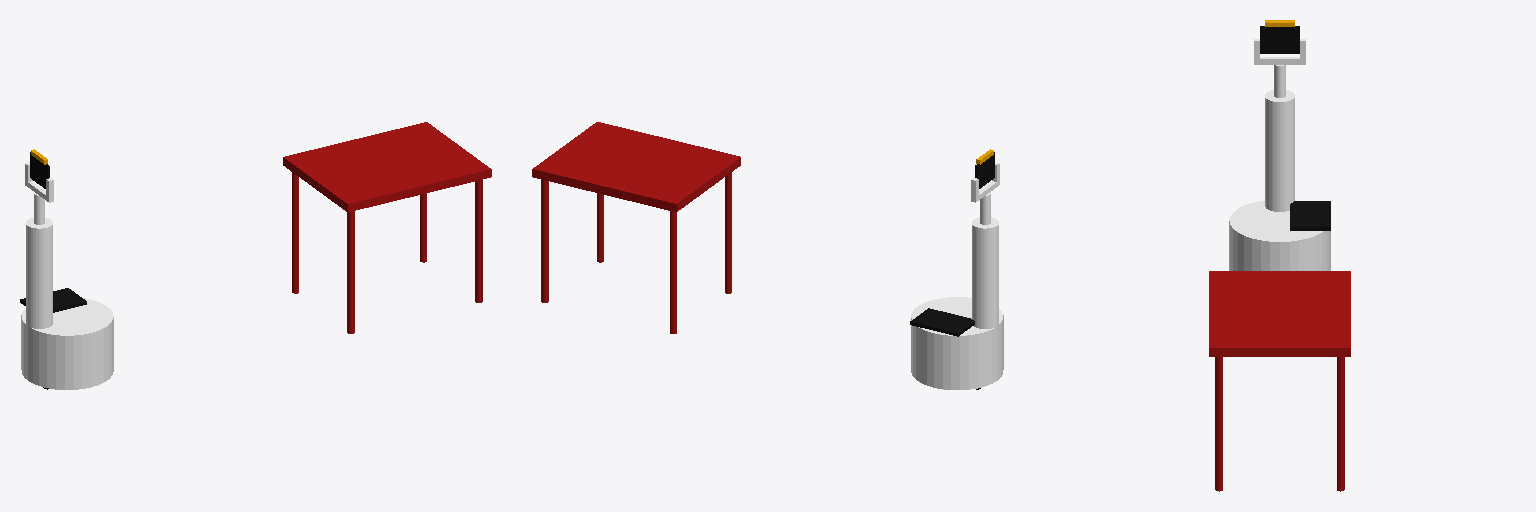
--- Render facts (derived) ---
The picture shows the robot from 3 angles, left to right: view 1: azimuth 30°, elevation 25°; view 2: azimuth 150°, elevation 25°; view 3: azimuth 270°, elevation 25°; orthographic projection.
Robot: korus_jaco — 38 links, 37 joints (13 revolute, 2 continuous, 5 prismatic, 17 fixed); root link world; default pose: joints at zero except 2 at the middle of their limits (jaco_shoulder_pitch_joint = 4.71, jaco_elbow_pitch_joint = 4.71).
Links seen in each view (by area): view 1: table_top_center_link, base_link, torso_link, body_link, table_foot_front_left_link, table_foot_back_left_link, table_foot_back_right_link, tray_link; view 2: table_top_center_link, base_link, torso_link, body_link, tray_link, table_foot_back_right_link, table_foot_back_left_link, table_foot_front_right_bottom_link; view 3: table_top_center_link, torso_link, body_link, base_link, tray_link, tablet_tilt_link, table_foot_front_left_link, table_foot_front_right_bottom_link.
Boxes of the visible links, x1=… form: table_top_center_link: x1=283, y1=122, x2=491, y2=211; base_link: x1=21, y1=324, x2=113, y2=389; torso_link: x1=26, y1=218, x2=52, y2=328; body_link: x1=21, y1=298, x2=113, y2=343; table_foot_front_left_link: x1=475, y1=180, x2=482, y2=302; table_foot_back_left_link: x1=347, y1=211, x2=354, y2=333; table_foot_back_right_link: x1=292, y1=172, x2=298, y2=293; tray_link: x1=20, y1=288, x2=86, y2=312; table_top_center_link: x1=532, y1=122, x2=740, y2=211; base_link: x1=911, y1=324, x2=1003, y2=389; torso_link: x1=972, y1=217, x2=998, y2=328; body_link: x1=911, y1=297, x2=1003, y2=343; tray_link: x1=910, y1=308, x2=974, y2=336; table_foot_back_right_link: x1=670, y1=211, x2=676, y2=333; table_foot_back_left_link: x1=725, y1=172, x2=731, y2=293; table_foot_front_right_bottom_link: x1=541, y1=235, x2=548, y2=302; table_top_center_link: x1=1209, y1=271, x2=1350, y2=356; torso_link: x1=1265, y1=90, x2=1294, y2=211; body_link: x1=1229, y1=200, x2=1329, y2=250; base_link: x1=1229, y1=230, x2=1330, y2=270; tray_link: x1=1290, y1=201, x2=1330, y2=230; tablet_tilt_link: x1=1260, y1=26, x2=1299, y2=53; table_foot_front_left_link: x1=1215, y1=357, x2=1222, y2=491; table_foot_front_right_bottom_link: x1=1337, y1=417, x2=1344, y2=491.
Bounding box of the posed robot: 2.7 × 0.7 × 1.35 m (x, y, z).
Meshes: 8 distinct files referenced, 0 mesh visuals loaded (none loaded); not drawn: 10 (reference not matched to a file when rendering).

The robot description file, URDF, robot "korus_jaco":
<?xml version="1.0" ?>
<!-- =================================================================================== -->
<!-- |    This document was autogenerated by xacro from new_korus_jaco_arm.urdf.xacro  | -->
<!-- |    EDITING THIS FILE BY HAND IS NOT RECOMMENDED                                 | -->
<!-- =================================================================================== -->
<robot name="korus_jaco" xmlns:controller="http://playerstage.sourceforge.net/gazebo/xmlschema/#controller" xmlns:interface="http://playerstage.sourceforge.net/gazebo/xmlschema/#interface" xmlns:sensor="http://playerstage.sourceforge.net/gazebo/xmlschema/#sensor" xmlns:xacro="http://www.ros.org/wiki/xacro">
  <!--   <include filename="$(find korus_meta)/resources/urdf/jaco_arm.xacro"/> -->
  <material name="JacoGrey">
    <color rgba="0.2 0.2 0.9 1.0"/>
  </material>
  <!-- ************************ omni drive simulation ************************* -->
  <link name="world">
  </link>
  <joint name="omni_drive_x" type="prismatic">
    <parent link="world"/>
    <child link="omni_drive_x_link"/>
    <origin rpy="0 0 0" xyz="-1.0 0 0"/>
    <axis xyz="1 0 0"/>
    <limit effort="10" lower="0.0" upper="2.0" velocity="1.0"/>
  </joint>
  <link name="omni_drive_x_link">
  </link>
  <joint name="omni_drive_y" type="prismatic">
    <parent link="omni_drive_x_link"/>
    <child link="base_footprint"/>
    <origin rpy="0 0 0" xyz="0.0 0 0"/>
    <axis xyz="0 1 0"/>
    <limit effort="10" lower="-1.0" upper="1.0" velocity="1.0"/>
  </joint>
  <!-- ************************ Robot model ************************* -->
  <link name="base_footprint"/>
  <joint name="base_joint" type="fixed">
    <parent link="base_footprint"/>
    <child link="base_link"/>
    <origin rpy="0 0 0" xyz="0.0 0.0 0.075"/>
  </joint>
  <link name="base_link">
    <visual>
      <origin rpy="0 0 0" xyz="0.0 0 0.0875"/>
      <geometry>
        <cylinder length="0.275" radius="0.250"/>
      </geometry>
      <material name="white">
        <color rgba="1 1 1 1"/>
      </material>
    </visual>
    <collision>
      <origin rpy="0 0 0" xyz="0.0 0 0.0875"/>
      <geometry>
        <cylinder length="0.275" radius="0.250"/>
      </geometry>
      <material name="white">
        <color rgba="1 1 1 1"/>
      </material>
    </collision>
  </link>
  <link name="wheel_left">
    <visual>
      <geometry>
        <cylinder length="0.03" radius="0.075"/>
      </geometry>
      <origin rpy="0 1.57079632679 0" xyz="0 0 0"/>
      <material name="black">
        <color rgba="0.1 0.1 0.1 1"/>
      </material>
    </visual>
  </link>
  <joint name="wheel_left" type="continuous">
    <parent link="base_link"/>
    <child link="wheel_left"/>
    <origin rpy="0 0 1.57079632679" xyz="0.0 0.15 0.0"/>
  </joint>
  <link name="wheel_right">
    <visual>
      <geometry>
        <cylinder length="0.03" radius="0.075"/>
      </geometry>
      <origin rpy="0 1.57079632679 0" xyz="0 0 0"/>
      <material name="black">
        <color rgba="0.1 0.1 0.1 1"/>
      </material>
    </visual>
  </link>
  <joint name="wheel_right" type="continuous">
    <parent link="base_link"/>
    <child link="wheel_right"/>
    <origin rpy="0 0 1.57079632679" xyz="0.0 -0.15 0.0"/>
  </joint>
  <link name="caster_front_left">
    <visual>
      <geometry>
        <cylinder length="0.02" radius="0.04"/>
      </geometry>
      <origin rpy="0 1.57079632679 0" xyz="0 0 0"/>
      <material name="black">
        <color rgba="0.1 0.1 0.1 1"/>
      </material>
    </visual>
  </link>
  <joint name="caster_front_left" type="fixed">
    <parent link="base_link"/>
    <child link="caster_front_left"/>
    <origin rpy="0 0 1.57079632679" xyz="0.18 0.1 -0.035"/>
  </joint>
  <link name="caster_front_right">
    <visual>
      <geometry>
        <cylinder length="0.02" radius="0.04"/>
      </geometry>
      <origin rpy="0 1.57079632679 0" xyz="0 0 0"/>
      <material name="black">
        <color rgba="0.1 0.1 0.1 1"/>
      </material>
    </visual>
  </link>
  <joint name="caster_front_right" type="fixed">
    <parent link="base_link"/>
    <child link="caster_front_right"/>
    <origin rpy="0 0 1.57079632679" xyz="0.18 -0.1 -0.035"/>
  </joint>
  <link name="caster_back_left">
    <visual>
      <geometry>
        <cylinder length="0.02" radius="0.04"/>
      </geometry>
      <origin rpy="0 1.57079632679 0" xyz="0 0 0"/>
      <material name="black">
        <color rgba="0.1 0.1 0.1 1"/>
      </material>
    </visual>
  </link>
  <joint name="caster_back_left" type="fixed">
    <parent link="base_link"/>
    <child link="caster_back_left"/>
    <origin rpy="0 0 1.57079632679" xyz="-0.18 0.1 -0.035"/>
  </joint>
  <link name="caster_back_right">
    <visual>
      <geometry>
        <cylinder length="0.02" radius="0.04"/>
      </geometry>
      <origin rpy="0 1.57079632679 0" xyz="0 0 0"/>
      <material name="black">
        <color rgba="0.1 0.1 0.1 1"/>
      </material>
    </visual>
  </link>
  <joint name="caster_back_right" type="fixed">
    <parent link="base_link"/>
    <child link="caster_back_right"/>
    <origin rpy="0 0 1.57079632679" xyz="-0.18 -0.1 -0.035"/>
  </joint>
  <joint name="body" type="revolute">
    <parent link="base_link"/>
    <child link="body_link"/>
    <origin rpy="0 0 0" xyz="0.0 0.0 0.250"/>
    <axis xyz="0 0 1"/>
    <limit effort="10" lower="-3.14159265359" upper="3.14159265359" velocity="0.013"/>
  </joint>
  <link name="body_link">
    <visual>
      <origin rpy="0 0 0" xyz="0.0 0.0 0.0"/>
      <geometry>
        <cylinder length="0.05" radius="0.25"/>
      </geometry>
      <material name="white">
        <color rgba="1 1 1 1"/>
      </material>
    </visual>
    <collision>
      <origin rpy="0 0 0" xyz="0.0 0.0 0.0"/>
      <geometry>
        <cylinder length="0.05" radius="0.25"/>
      </geometry>
      <material name="white">
        <color rgba="1 1 1 1"/>
      </material>
    </collision>
  </link>
  <joint name="tray_joint" type="revolute">
    <parent link="base_link"/>
    <child link="tray_link"/>
    <origin rpy="0 0 0" xyz="0.0 0.0 0.250"/>
    <axis xyz="0 0 1"/>
    <limit effort="10" lower="-3.14159265359" upper="3.14159265359" velocity="0.013"/>
  </joint>
  <link name="tray_link">
    <visual>
      <geometry>
        <box size="0.30 0.20 0.02"/>
      </geometry>
      <origin rpy="0 0.0 0" xyz="0.0 0.15 0.05"/>
      <material name="black">
        <color rgba="0.1 0.1 0.1 1"/>
      </material>
    </visual>
    <collision>
      <geometry>
        <box size="0.30 0.20 0.02"/>
      </geometry>
      <origin rpy="0 0.0 0" xyz="0.0 0.15 0.05"/>
      <material name="black">
        <color rgba="0.1 0.1 0.1 1"/>
      </material>
    </collision>
  </link>
  <joint name="torso_joint" type="fixed">
    <parent link="body_link"/>
    <child link="torso_link"/>
    <origin rpy="0 0 0" xyz="-0.175 0.0 0.025"/>
  </joint>
  <link name="torso_link">
    <visual>
      <geometry>
        <cylinder length="0.60" radius="0.075"/>
      </geometry>
      <origin rpy="0 0 0" xyz="0 0 0.30"/>
      <material name="white">
        <color rgba="1 1 1 1"/>
      </material>
    </visual>
    <collision>
      <geometry>
        <cylinder length="0.60" radius="0.075"/>
      </geometry>
      <origin rpy="0 0 0" xyz="0 0 0.30"/>
    </collision>
  </link>
  <joint name="torso_lift_offset" type="fixed">
    <parent link="torso_link"/>
    <child link="torso_lift_offset_link"/>
    <origin rpy="0 0 0" xyz="0 0 0.25"/>
    <axis xyz="0 0 1"/>
  </joint>
  <link name="torso_lift_offset_link"/>
  <joint name="torso_lift" type="prismatic">
    <parent link="torso_lift_offset_link"/>
    <child link="torso_lift_link"/>
    <origin rpy="0 0 3.14159265359" xyz="0 0 0"/>
    <axis xyz="0 0 1"/>
    <limit effort="10" lower="-0.10" upper="0.22" velocity="0.5"/>
  </joint>
  <link name="torso_lift_link">
    <!--     <visual> -->
    <!--       <geometry> -->
    <!--         <box size="0.10 0.25 0.13"/> -->
    <!--       </geometry> -->
    <!--       <origin xyz="-0.05 0.0 0.0" rpy="0 0 0"/> -->
    <!--       <xacro:insert_block name="material_grey_blue" /> -->
    <!--     </visual> -->
  </link>
  <joint name="head_joint" type="fixed">
    <parent link="torso_lift_link"/>
    <child link="head_link"/>
    <origin rpy="0 0 3.14159265359" xyz="0.0 0.0 0.125"/>
  </joint>
  <link name="head_link">
    <visual>
      <geometry>
        <cylinder length="0.40" radius="0.03"/>
      </geometry>
      <origin rpy="0 0 0" xyz="0.0 0.0 0.2"/>
      <material name="white">
        <color rgba="1 1 1 1"/>
      </material>
    </visual>
  </link>
  <joint name="tablet_pan_joint" type="revolute">
    <parent link="head_link"/>
    <child link="tablet_pan_link"/>
    <origin rpy="0 0 0" xyz="0.0 0.0 0.40"/>
    <axis xyz="0 0 1"/>
    <limit effort="10" lower="-1.57079632679" upper="1.57079632679" velocity="0.013"/>
  </joint>
  <link name="tablet_pan_link">
    <visual>
      <geometry>
        <box size="0.03 0.26 0.03"/>
      </geometry>
      <origin rpy="0.0 0.0 0.0" xyz="0.0 0.0 0.015"/>
      <material name="white">
        <color rgba="1 1 1 1"/>
      </material>
    </visual>
  </link>
  <joint name="tablet_tilt_mount_left_joint" type="fixed">
    <parent link="tablet_pan_link"/>
    <child link="tablet_tilt_mount_left_link"/>
    <origin rpy="0 0 0" xyz="0 0.115 0"/>
  </joint>
  <link name="tablet_tilt_mount_left_link">
    <visual>
      <geometry>
        <box size="0.03 0.03 0.10"/>
      </geometry>
      <origin rpy="0.0 0.0 0.0" xyz="0.0 0.0 0.08"/>
      <material name="white">
        <color rgba="1 1 1 1"/>
      </material>
    </visual>
  </link>
  <joint name="tablet_tilt_mount_right_joint" type="fixed">
    <parent link="tablet_pan_link"/>
    <child link="tablet_tilt_mount_right_link"/>
    <origin rpy="0 0 0" xyz="0 -0.115 0"/>
  </joint>
  <link name="tablet_tilt_mount_right_link">
    <visual>
      <geometry>
        <box size="0.03 0.03 0.10 "/>
      </geometry>
      <origin rpy="0.0 0.0 0.0" xyz="0.0 0.0 0.08"/>
      <material name="white">
        <color rgba="1 1 1 1"/>
      </material>
    </visual>
  </link>
  <joint name="tablet_tilt_joint" type="revolute">
    <parent link="tablet_pan_link"/>
    <child link="tablet_tilt_link"/>
    <origin rpy="1.57079632679 0 0" xyz="0 0 0.13"/>
    <axis xyz="0 0 1"/>
    <limit effort="10" lower="-1.57079632679" upper="1.57079632679" velocity="0.013"/>
  </joint>
  <link name="tablet_tilt_link">
    <visual>
      <geometry>
        <box size="0.01 0.20 0.15"/>
      </geometry>
      <origin rpy="-1.57079632679 0.0 0.0" xyz="0.0 0.0 0.0"/>
      <material name="black">
        <color rgba="0.1 0.1 0.1 1"/>
      </material>
    </visual>
  </link>
  <joint name="asus_tilt_joint" type="fixed">
    <parent link="tablet_tilt_link"/>
    <child link="asus_link"/>
    <origin rpy="0 0 0" xyz="0.0 0.0875 0.0"/>
  </joint>
  <link name="asus_link">
    <visual>
      <geometry>
        <box size="0.025 0.025 0.15"/>
      </geometry>
      <origin rpy="0 0 0" xyz="0.0 0.0 0.0"/>
      <material name="orange">
        <color rgba="1.0 0.7 0.0 1"/>
      </material>
    </visual>
  </link>
  <!-- ************************ Arm model ************************* -->
  <!-- 	<xacro:jaco_arm parent="torso_lift_link"> -->
  <!-- 	</xacro:jaco_arm> -->
  <joint name="jaco_base_joint" type="fixed">
    <origin rpy="-1.57079632679 0 1.57079632679" xyz="-0.14 0 0"/>
    <parent link="torso_lift_link"/>
    <child link="jaco_base_link"/>
  </joint>
  <link name="jaco_base_link">
    <visual>
      <material name="JacoGrey"/>
      <origin rpy="0 0 1.57079632679" xyz="0 0 0"/>
      <geometry>
        <mesh filename="package://jaco_description/meshes/jaco_base_joint.stl"/>
      </geometry>
    </visual>
    <collision>
      <origin rpy="0 0 1.57079632679" xyz="0 0 0"/>
      <geometry>
        <mesh filename="package://jaco_description/meshes/jaco_base_joint.stl"/>
      </geometry>
    </collision>
  </link>
  <joint name="jaco_shoulder_yaw_joint" type="revolute">
    <origin rpy="0 0 0" xyz="0 0 0.2102"/>
    <axis rpy="0 0 0" xyz="0 0 1"/>
    <parent link="jaco_base_link"/>
    <child link="jaco_shoulder_link"/>
    <!--         <limit lower="${-M_PI}" upper="${M_PI}" effort="1" velocity="${M_PI}"/> -->
    <limit effort="10" lower="-9.42477796077" upper="9.42477796077" velocity="0.84"/>
  </joint>
  <link name="jaco_shoulder_link">
    <visual>
      <material name="JacoGrey"/>
      <origin rpy="1.57079632679 -1.57079632679 0" xyz="0 0 0"/>
      <geometry>
        <mesh filename="package://jaco_description/meshes/jaco_shoulder_yaw_joint.stl"/>
      </geometry>
    </visual>
    <collision>
      <origin rpy="1.57079632679 -1.57079632679 0" xyz="0 0 0"/>
      <geometry>
        <mesh filename="package://jaco_description/meshes/jaco_shoulder_yaw_joint.stl"/>
      </geometry>
    </collision>
  </link>
  <joint name="jaco_shoulder_pitch_joint" type="revolute">
    <origin rpy="-1.57079632679 0 0" xyz="0 0 0"/>
    <axis xyz="0 0 1"/>
    <parent link="jaco_shoulder_link"/>
    <child link="jaco_upper_arm_link"/>
    <!--         <limit lower="${-M_PI}" upper="${M_PI}" effort="1" velocity="${M_PI}"/> -->
    <limit effort="10" lower="2.30" upper="7.12" velocity="0.84"/>
  </joint>
  <link name="jaco_upper_arm_link">
    <visual>
      <material name="JacoGrey"/>
      <origin rpy="0 0 -1.57079632679" xyz="0 0 0"/>
      <geometry>
        <mesh filename="package://jaco_description/meshes/jaco_shoulder_pitch_joint.stl"/>
      </geometry>
    </visual>
    <collision>
      <origin rpy="0 0 -1.57079632679" xyz="0 0 0"/>
      <geometry>
        <mesh filename="package://jaco_description/meshes/jaco_shoulder_pitch_joint.stl"/>
      </geometry>
    </collision>
  </link>
  <joint name="jaco_elbow_pitch_joint" type="revolute">
    <origin rpy="0 0 0" xyz="0.41 0 0.012"/>
    <axis xyz="0 0 1"/>
    <parent link="jaco_upper_arm_link"/>
    <child link="jaco_lower_arm_link"/>
    <!--         <limit lower="${-M_PI}" upper="${M_PI}" effort="1" velocity="${M_PI}"/> -->
    <limit effort="10" lower="1.87079632679" upper="7.55398163397" velocity="0.84"/>
  </joint>
  <link name="jaco_lower_arm_link">
    <visual>
      <material name="JacoGrey"/>
      <origin rpy="3.14159265359 0 3.14159265359" xyz="0 0 -0.012"/>
      <geometry>
        <mesh filename="package://jaco_description/meshes/jaco_elbow_pitch_joint.stl"/>
      </geometry>
    </visual>
    <collision>
      <origin rpy="3.14159265359 0 3.14159265359" xyz="0 0 -0.012"/>
      <geometry>
        <mesh filename="package://jaco_description/meshes/jaco_elbow_pitch_joint.stl"/>
      </geometry>
    </collision>
  </link>
  <joint name="jaco_elbow_roll_joint" type="revolute">
    <origin rpy="-1.57079632679 0 0" xyz="0 0.249276823007 0 "/>
    <axis xyz="0 0 1"/>
    <parent link="jaco_lower_arm_link"/>
    <child link="jaco_lower_arm_roll_link"/>
    <!--         <limit lower="${-M_PI}" upper="${M_PI}" effort="1" velocity="${M_PI}"/> -->
    <limit effort="10" lower="-9.42477796077" upper="9.42477796077" velocity="0.84"/>
  </joint>
  <link name="jaco_lower_arm_roll_link">
    <visual>
      <material name="JacoGrey"/>
      <origin rpy="3.14159265359 0 1.57079632679" xyz="0 0 -0.0422768230075"/>
      <geometry>
        <mesh filename="package://jaco_description/meshes/jaco_elbow_roll_joint.stl"/>
      </geometry>
    </visual>
    <collision>
      <origin rpy="3.14159265359 0 1.57079632679" xyz="0 0 -0.0422768230075"/>
      <geometry>
        <mesh filename="package://jaco_description/meshes/jaco_elbow_roll_joint.stl"/>
      </geometry>
    </collision>
  </link>
  <joint name="jaco_wrist_roll_joint" type="revolute">
    <origin rpy="0.959931088597 0 0" xyz="0 -0.0692622919853 0.0484979789618"/>
    <axis xyz="0 0 1"/>
    <parent link="jaco_lower_arm_roll_link"/>
    <child link="jaco_wrist_link"/>
    <!--         <limit lower="${-M_PI}" upper="${M_PI}" effort="1" velocity="${M_PI}"/> -->
    <limit effort="10" lower="-9.42477796077" upper="9.42477796077" velocity="0.84"/>
  </joint>
  <link name="jaco_wrist_link">
    <visual>
      <material name="JacoGrey"/>
      <origin rpy="0 3.14159265359 -1.57079632679" xyz="0 0 -0.0422768230075"/>
      <geometry>
        <mesh filename="package://jaco_description/meshes/jaco_wrist_roll_joint.stl"/>
      </geometry>
    </visual>
    <collision>
      <origin rpy="0 3.14159265359 -1.57079632679" xyz="0 0 -0.0422768230075"/>
      <geometry>
        <mesh filename="package://jaco_description/meshes/jaco_wrist_roll_joint.stl"/>
      </geometry>
    </collision>
  </link>
  <joint name="jaco_hand_roll_joint" type="revolute">
    <origin rpy="0.959931088597 0 0" xyz="0 -0.186174274186 0.130360630206"/>
    <axis xyz="0 0 1"/>
    <parent link="jaco_wrist_link"/>
    <child link="jaco_hand_link"/>
    <!--         <limit lower="${-M_PI}" upper="${M_PI}" effort="1" velocity="${M_PI}"/> -->
    <limit effort="10" lower="-9.42477796077" upper="9.42477796077" velocity="0.84"/>
  </joint>
  <link name="jaco_hand_link">
    <visual>
      <material name="JacoGrey"/>
      <origin rpy="0 0 -3.14159265359" xyz="0 0 -0.185"/>
      <geometry>
        <mesh filename="package://jaco_description/meshes/jaco_hand_roll_joint.stl"/>
      </geometry>
    </visual>
    <collision>
      <origin rpy="0 0 -3.14159265359" xyz="0 0 -0.185"/>
      <geometry>
        <mesh filename="package://jaco_description/meshes/jaco_hand_roll_joint.stl"/>
      </geometry>
    </collision>
  </link>
  <joint name="jaco_finger_1_joint" type="revolute">
    <origin rpy="0 -0.448798950513 0" xyz="-0.036 0.021 -0.07"/>
    <axis xyz="0 1 0"/>
    <parent link="jaco_hand_link"/>
    <child link="jaco_finger_1_link"/>
    <limit effort="1" lower="-3.14159265359" upper="3.14159265359" velocity="3.14159265359"/>
  </joint>
  <link name="jaco_finger_1_link">
    <visual>
      <material name="JacoGrey"/>
      <origin rpy="0 0 0" xyz="0 0 0"/>
      <geometry>
        <mesh filename="package://jaco_description/meshes/finger.dae"/>
      </geometry>
    </visual>
    <collision>
      <origin rpy="0 0 0" xyz="0 0 0"/>
      <geometry>
        <mesh filename="package://jaco_description/meshes/finger.dae"/>
      </geometry>
    </collision>
  </link>
  <joint name="jaco_finger_2_joint" type="revolute">
    <origin rpy="0 -0.448798950513 -3.14159265359" xyz="0.036 -0 -0.07"/>
    <axis xyz="0 1 0"/>
    <parent link="jaco_hand_link"/>
    <child link="jaco_finger_2_link"/>
    <limit effort="1" lower="-3.14159265359" upper="3.14159265359" velocity="3.14159265359"/>
  </joint>
  <link name="jaco_finger_2_link">
    <visual>
      <material name="JacoGrey"/>
      <origin rpy="0 0 0" xyz="0 0 0"/>
      <geometry>
        <mesh filename="package://jaco_description/meshes/finger.dae"/>
      </geometry>
    </visual>
    <collision>
      <origin rpy="0 0 0" xyz="0 0 0"/>
      <geometry>
        <mesh filename="package://jaco_description/meshes/finger.dae"/>
      </geometry>
    </collision>
  </link>
  <joint name="jaco_finger_3_joint" type="revolute">
    <origin rpy="0 -0.448798950513 0" xyz="-0.036 -0.021 -0.07"/>
    <axis xyz="0 1 0"/>
    <parent link="jaco_hand_link"/>
    <child link="jaco_finger_3_link"/>
    <limit effort="1" lower="-3.14159265359" upper="3.14159265359" velocity="3.14159265359"/>
  </joint>
  <link name="jaco_finger_3_link">
    <visual>
      <material name="JacoGrey"/>
      <origin rpy="0 0 0" xyz="0 0 0"/>
      <geometry>
        <mesh filename="package://jaco_description/meshes/finger.dae"/>
      </geometry>
    </visual>
    <collision>
      <origin rpy="0 0 0" xyz="0 0 0"/>
      <geometry>
        <mesh filename="package://jaco_description/meshes/finger.dae"/>
      </geometry>
    </collision>
  </link>
  <!-- ************************ Table model ************************* -->
  <joint name="table_bottom_center_joint" type="fixed">
    <parent link="world"/>
    <child link="table_bottom_center_link"/>
    <origin rpy="0 0 0" xyz="1.00 0.0 0"/>
  </joint>
  <link name="table_bottom_center_link">
	  </link>
  <joint name="table_foot_front_right_bottom_joint" type="fixed">
    <parent link="table_bottom_center_link"/>
    <child link="table_foot_front_right_bottom_link"/>
    <origin rpy="0 0 0" xyz="0.4 0.3 0.0"/>
  </joint>
  <link name="table_foot_front_right_bottom_link">
    <visual>
      <origin rpy="0 0 0" xyz="0.0 0 0.20"/>
      <geometry>
        <cylinder length="0.40" radius="0.02"/>
      </geometry>
      <material name="black">
        <color rgba="0.7 0.1 0.1 1"/>
      </material>
    </visual>
    <collision>
      <origin rpy="0 0 0" xyz="0.0 0 0.20"/>
      <geometry>
        <cylinder length="0.40" radius="0.02"/>
      </geometry>
    </collision>
  </link>
  <joint name="table_foot_front_right_top_joint" type="prismatic">
    <parent link="table_foot_front_right_bottom_link"/>
    <child link="table_foot_front_right_link"/>
    <origin rpy="0 0 0" xyz="0 0 0.4"/>
    <axis xyz="0 0 1"/>
    <limit effort="10" lower="-0.4" upper="0.0" velocity="0.4"/>
  </joint>
  <link name="table_foot_front_right_link">
    <visual>
      <origin rpy="0 0 0" xyz="0.0 0 0.20"/>
      <geometry>
        <cylinder length="0.40" radius="0.02"/>
      </geometry>
      <material name="black">
        <color rgba="0.7 0.1 0.1 1"/>
      </material>
    </visual>
    <collision>
      <origin rpy="0 0 0" xyz="0.0 0 0.20"/>
      <geometry>
        <cylinder length="0.40" radius="0.02"/>
      </geometry>
    </collision>
  </link>
  <joint name="table_foot_front_left_joint" type="fixed">
    <parent link="table_bottom_center_link"/>
    <child link="table_foot_front_left_link"/>
    <origin rpy="0 0 0" xyz="0.4 -0.3 0"/>
  </joint>
  <link name="table_foot_front_left_link">
    <visual>
      <origin rpy="0 0 0" xyz="0.0 0 0.375"/>
      <geometry>
        <cylinder length="0.75" radius="0.02"/>
      </geometry>
      <material name="black">
        <color rgba="0.7 0.1 0.1 1"/>
      </material>
    </visual>
    <collision>
      <origin rpy="0 0 0" xyz="0.0 0 0.375"/>
      <geometry>
        <cylinder length="0.75" radius="0.02"/>
      </geometry>
    </collision>
  </link>
  <joint name="table_foot_back_right_joint" type="fixed">
    <parent link="table_bottom_center_link"/>
    <child link="table_foot_back_right_link"/>
    <origin rpy="0 0 0" xyz="-0.4 0.3 0"/>
  </joint>
  <link name="table_foot_back_right_link">
    <visual>
      <geometry>
        <cylinder length="0.75" radius="0.02"/>
      </geometry>
      <origin rpy="0 0 0" xyz="0.0 0 0.375"/>
      <material name="black">
        <color rgba="0.7 0.1 0.1 1"/>
      </material>
    </visual>
    <collision>
      <geometry>
        <cylinder length="0.75" radius="0.02"/>
      </geometry>
      <origin rpy="0 0 0" xyz="0.0 0 0.375"/>
    </collision>
  </link>
  <joint name="table_foot_back_left_joint" type="fixed">
    <parent link="table_bottom_center_link"/>
    <child link="table_foot_back_left_link"/>
    <origin rpy="0 0 0" xyz="-0.4 -0.3 0"/>
  </joint>
  <link name="table_foot_back_left_link">
    <visual>
      <geometry>
        <cylinder length="0.75" radius="0.02"/>
      </geometry>
      <origin rpy="0 0 0" xyz="0.0 0 0.375"/>
      <material name="black">
        <color rgba="0.7 0.1 0.1 1"/>
      </material>
    </visual>
    <collision>
      <geometry>
        <cylinder length="0.75" radius="0.02"/>
      </geometry>
      <origin rpy="0 0 0" xyz="0.0 0 0.375"/>
    </collision>
  </link>
  <joint name="table_top_center_joint" type="prismatic">
    <parent link="table_bottom_center_link"/>
    <child link="table_top_center_link"/>
    <origin rpy="0 0 0" xyz="0.0 0.0 0.80"/>
    <axis xyz="0 0 1"/>
    <limit effort="10" lower="-0.4" upper="0.0" velocity="0.4"/>
  </joint>
  <link name="table_top_center_link">
    <visual>
      <geometry>
        <box size="0.90 0.70 0.05"/>
      </geometry>
      <origin rpy="0 0.0 0" xyz="0.0 0.0 -0.025"/>
      <material name="black">
        <color rgba="0.7 0.1 0.1 1"/>
      </material>
    </visual>
    <collision>
      <geometry>
        <box size="0.90 0.70 0.05"/>
      </geometry>
      <origin rpy="0 0.0 0" xyz="0.0 0.0 -0.025"/>
    </collision>
  </link>
</robot>
